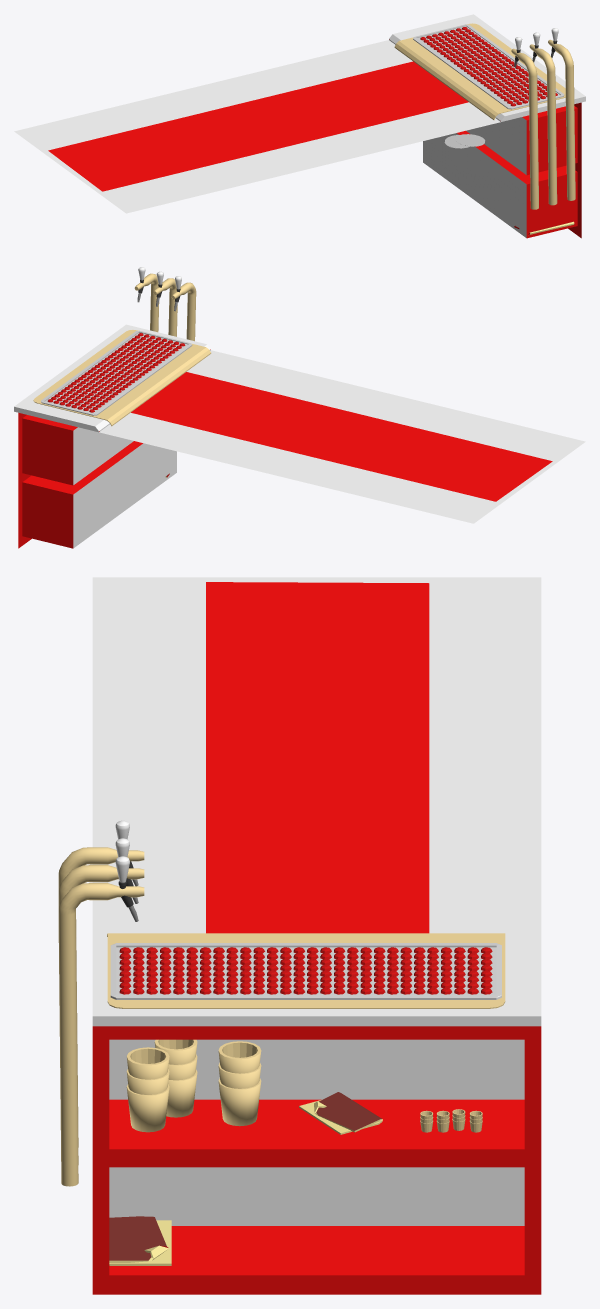
The model's file is Table_Zhive_Color.FBX.
The picture shows the model from 3 angles, top to bottom: view 1: azimuth 30°, elevation 25°; view 2: azimuth 150°, elevation 25°; view 3: azimuth 270°, elevation 25°; orthographic projection. The views are drawn at different scales.
Parts seen in each view (by area): view 1: stol, bigpodstavka, skatert, kran.000, kran.002, kran.001, Podstavkapodkrygky.002; view 2: stol, bigpodstavka, skatert, kran.001, kran.002, kran.000; view 3: stol, bigpodstavka, skatert, kran.002, Cylinder.002, stakan, Plane.001, Cylinder.001, tryapka, kran.000, kran.001.
Boxes of the visible parts, bbox=[...] form: stol: bbox=[14, 14, 585, 238]; bigpodstavka: bbox=[413, 24, 564, 109]; skatert: bbox=[394, 23, 565, 120]; kran.000: bbox=[529, 32, 557, 205]; kran.002: bbox=[548, 28, 575, 200]; kran.001: bbox=[511, 37, 538, 209]; Podstavkapodkrygky.002: bbox=[455, 134, 485, 146]; stol: bbox=[14, 324, 585, 548]; bigpodstavka: bbox=[41, 330, 192, 415]; skatert: bbox=[33, 330, 211, 426]; kran.001: bbox=[171, 276, 196, 341]; kran.002: bbox=[134, 267, 159, 332]; kran.000: bbox=[153, 271, 177, 336]; stol: bbox=[92, 577, 541, 1294]; bigpodstavka: bbox=[110, 943, 501, 999]; skatert: bbox=[107, 933, 505, 1008]; kran.002: bbox=[58, 856, 144, 1186]; Cylinder.002: bbox=[218, 1041, 261, 1126]; stakan: bbox=[126, 1047, 169, 1132]; Plane.001: bbox=[109, 1216, 171, 1265]; Cylinder.001: bbox=[154, 1039, 197, 1117]; tryapka: bbox=[299, 1092, 382, 1134]; kran.000: bbox=[58, 838, 144, 1164]; kran.001: bbox=[58, 820, 144, 1147].
Size of the model in its own units: 7065 by 3074 by 3214.
